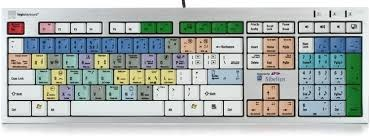keyboard: (4, 15, 367, 122)
